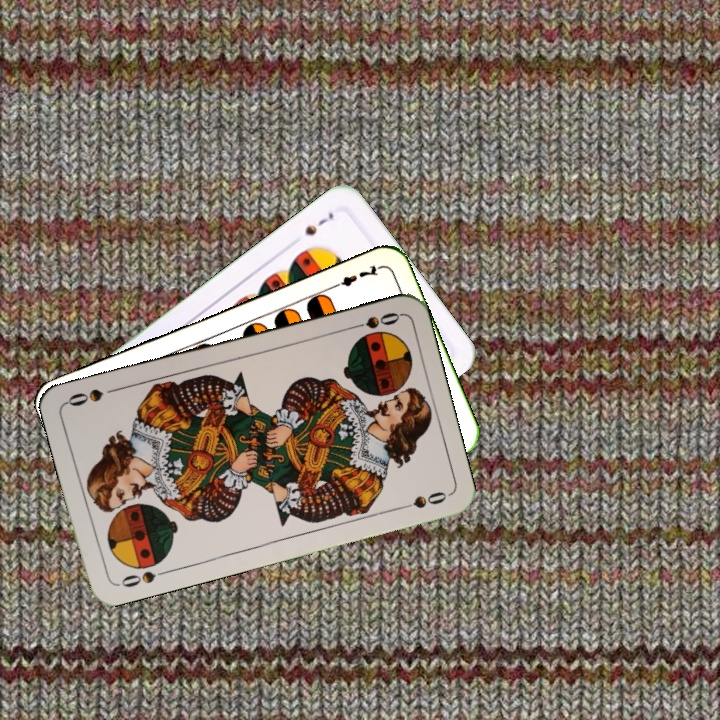E7: (326, 261, 383, 292)
S7: (300, 207, 337, 238)
SO: (344, 308, 403, 333), (112, 566, 170, 590)
